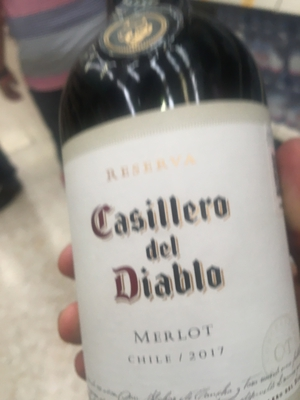casillero del diablo merlot: (53, 15, 300, 380)
